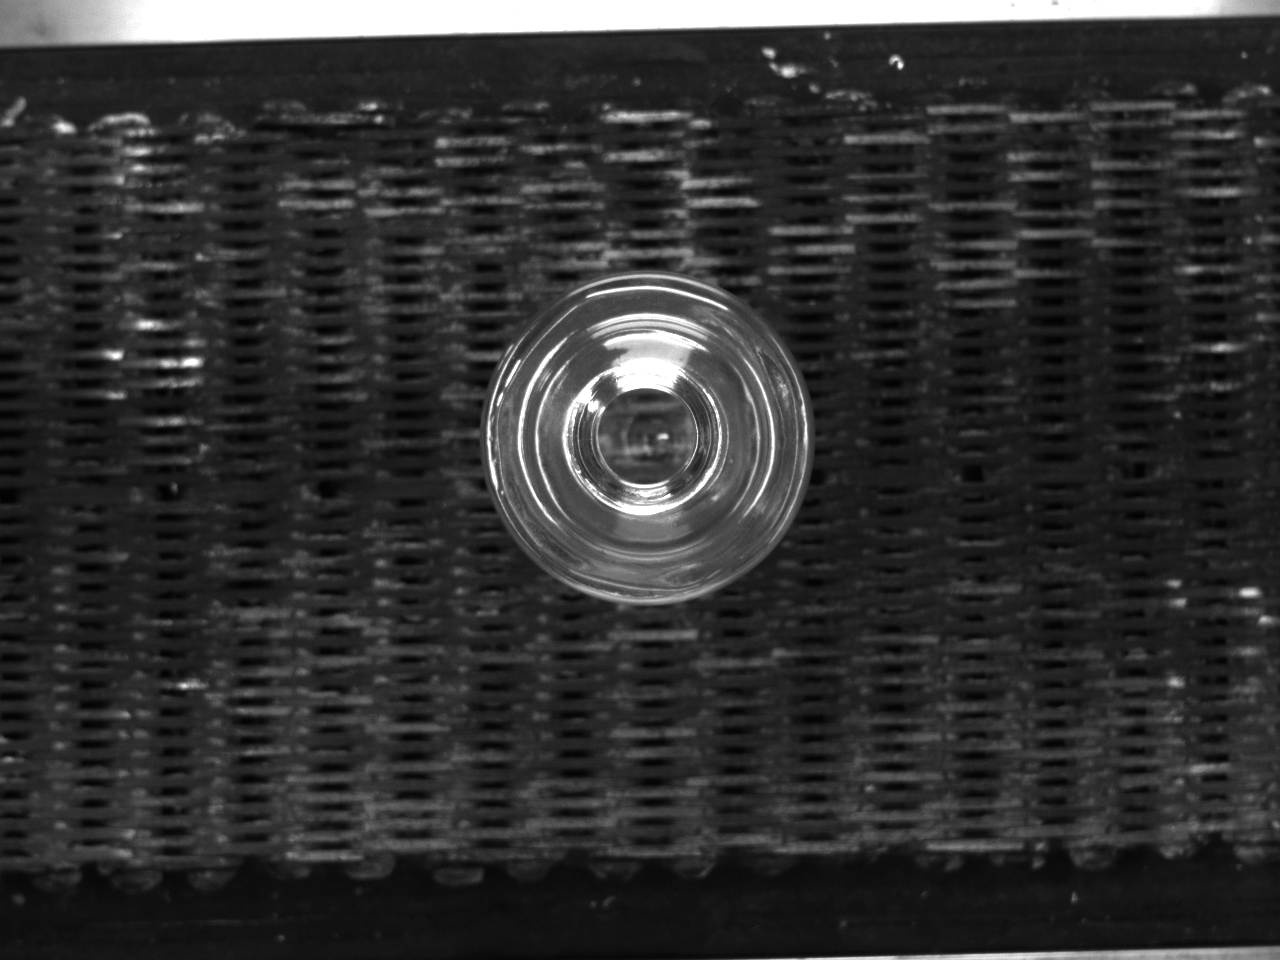bottleneck: (564, 361, 722, 514)
